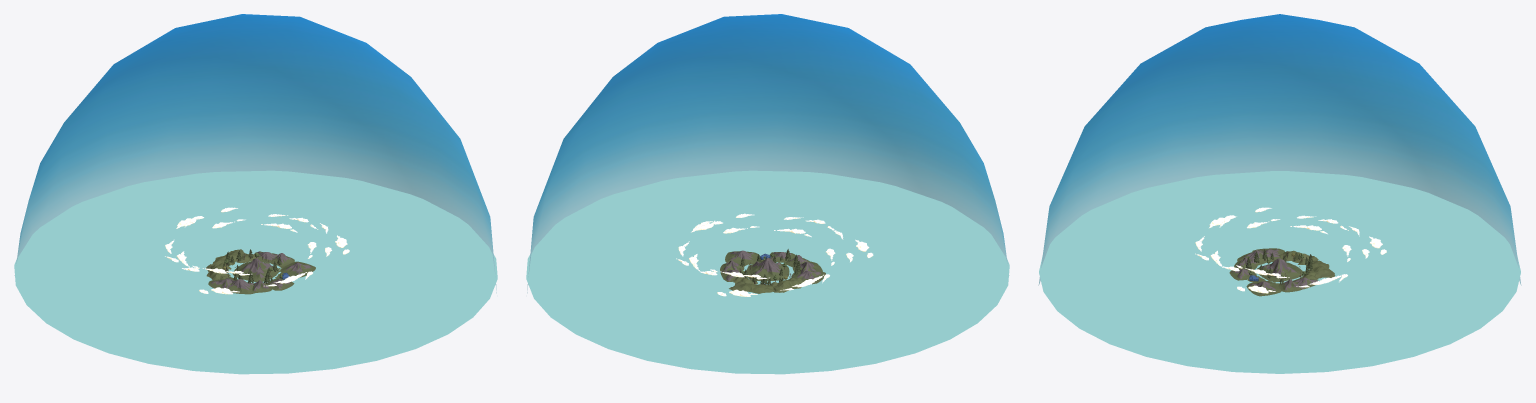
Rendered from island.glb.
The picture shows the model from 3 angles, left to right: view 1: azimuth 30°, elevation 25°; view 2: azimuth 150°, elevation 25°; view 3: azimuth 270°, elevation 25°; orthographic projection.
Visible parts, largest first — view 1: SM_Generic_Mountains_Grass_02 (5).002, skydome; view 2: SM_Generic_Mountains_Grass_02 (5).002, skydome; view 3: SM_Generic_Mountains_Grass_02 (5).002, skydome.
Boxes of the visible parts, <box> form: SM_Generic_Mountains_Grass_02 (5).002: <box>14,170,497,374</box>; skydome: <box>14,14,496,293</box>; SM_Generic_Mountains_Grass_02 (5).002: <box>526,170,1009,374</box>; skydome: <box>527,14,1009,293</box>; SM_Generic_Mountains_Grass_02 (5).002: <box>1039,171,1520,373</box>; skydome: <box>1038,14,1521,285</box>.
Size of the model in its own units: 705 by 409 by 705.
Materials: 5 (3 with a texture image).
